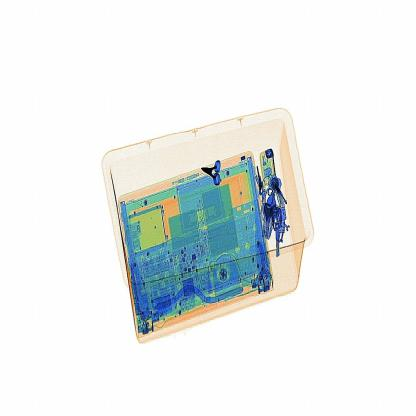gun: (202, 150, 234, 193)
